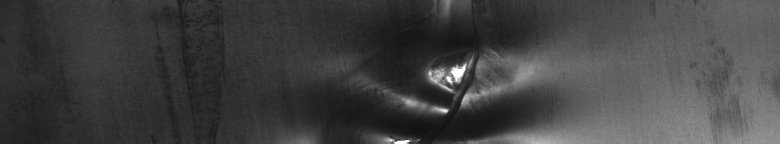ke: (374, 4, 524, 136)
